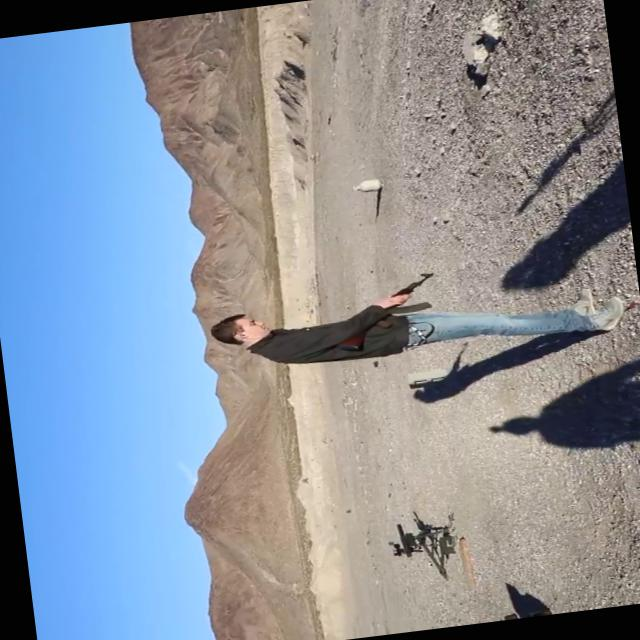long weapon: (322, 264, 446, 352), (366, 509, 456, 579)
